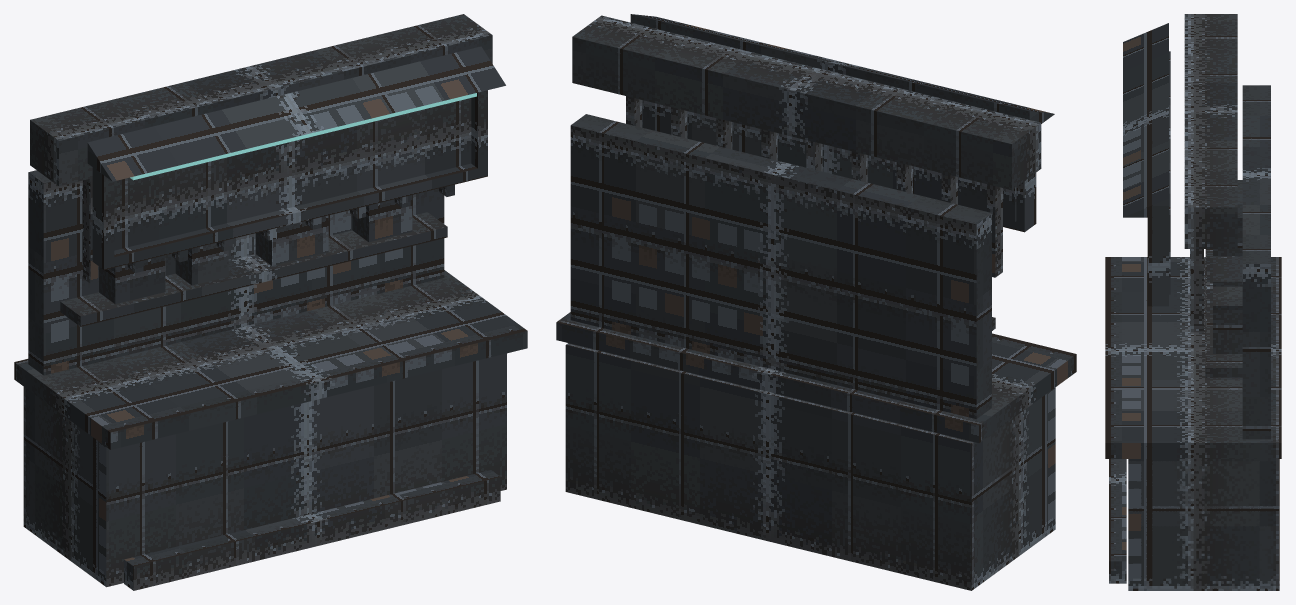
Rendered from hub_shop_counter.glb.
3 renders of one model, left to right at view 1: azimuth 30°, elevation 25°; view 2: azimuth 150°, elevation 25°; view 3: azimuth 270°, elevation 25°, orthographic. The views are drawn at different scales.
Parts seen in each view (by area): view 1: hub_shop_counter; view 2: hub_shop_counter; view 3: hub_shop_counter.
Boxes of the visible parts, box(x1,y1,x2,y2) form: hub_shop_counter: box(14, 14, 527, 590); hub_shop_counter: box(556, 14, 1076, 590); hub_shop_counter: box(1105, 14, 1281, 590).
Bounding box in the file's own units: 2.6 × 2.45 × 1.
Materials: 2 (1 with a texture image).
